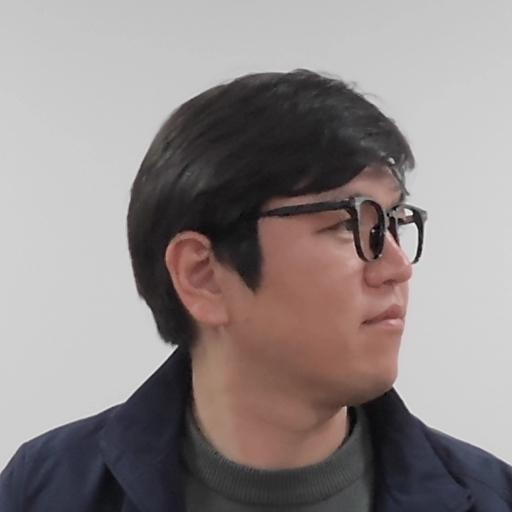no_glasses: (128, 64, 434, 421)
